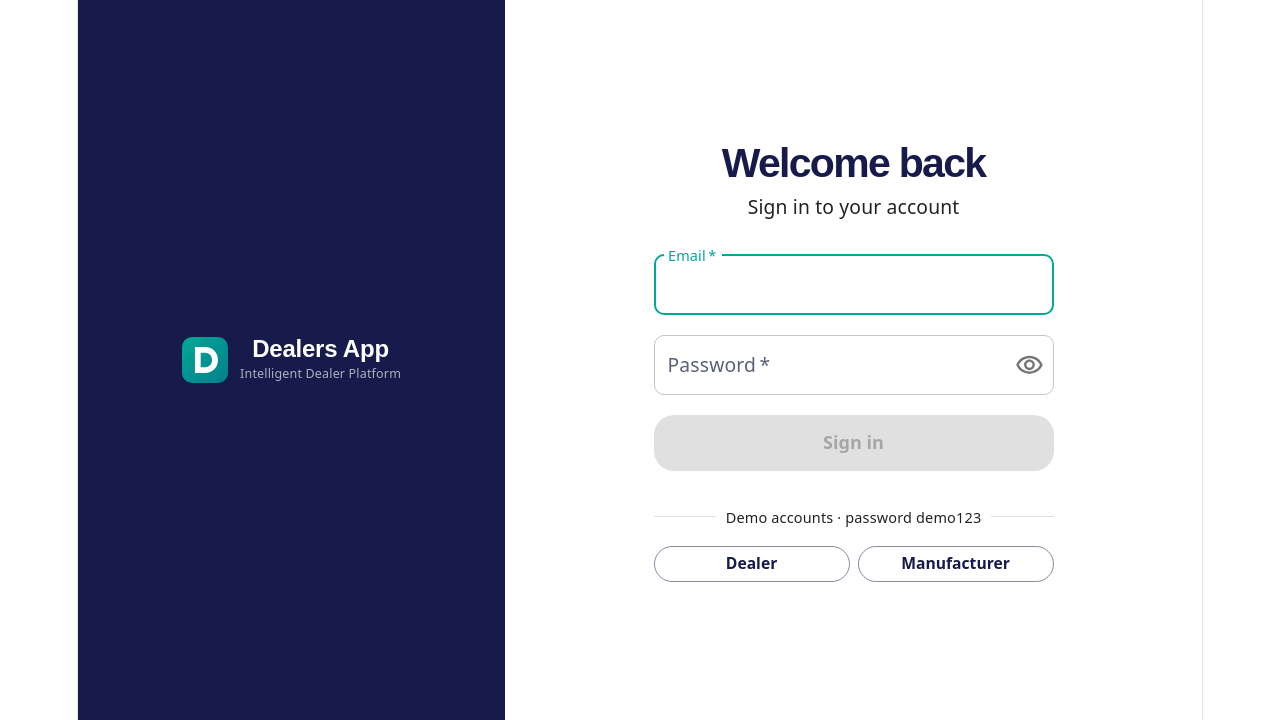
Test case: Login › wrong password shows the error and stays on the page
The image size is (1280, 720).
Type "dealer@demo.com" into the field labelled "Email *" at (854, 284), box [654,254,1054,315]
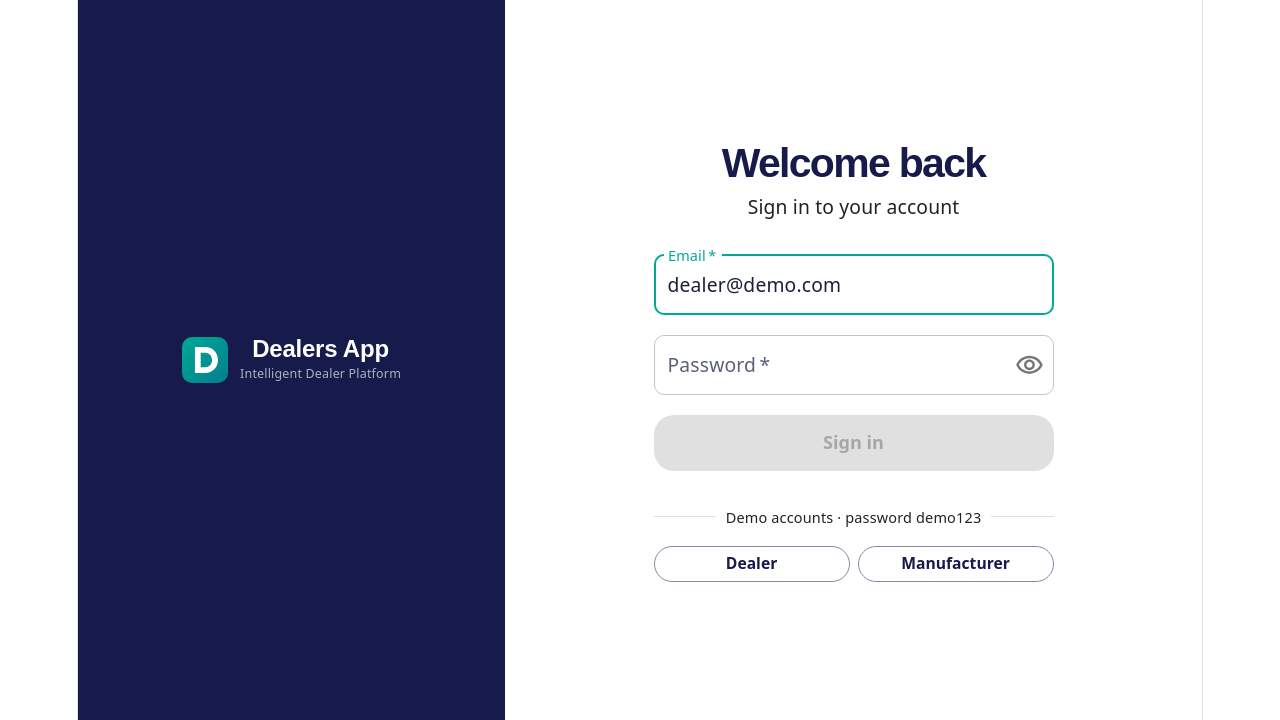
Type "wrong" into the password field labelled "Password *" at (826, 365), box [654,335,999,395]
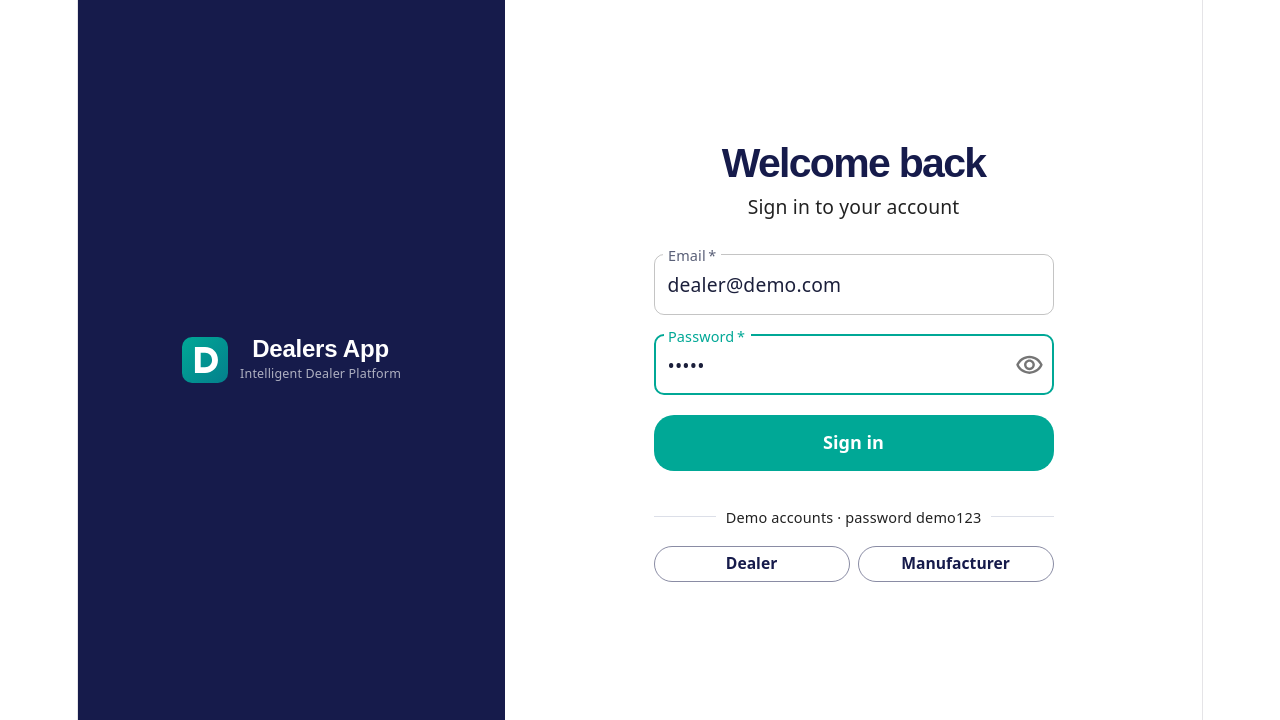
Click the button "Sign in" at (854, 443), box [654,416,1054,471]
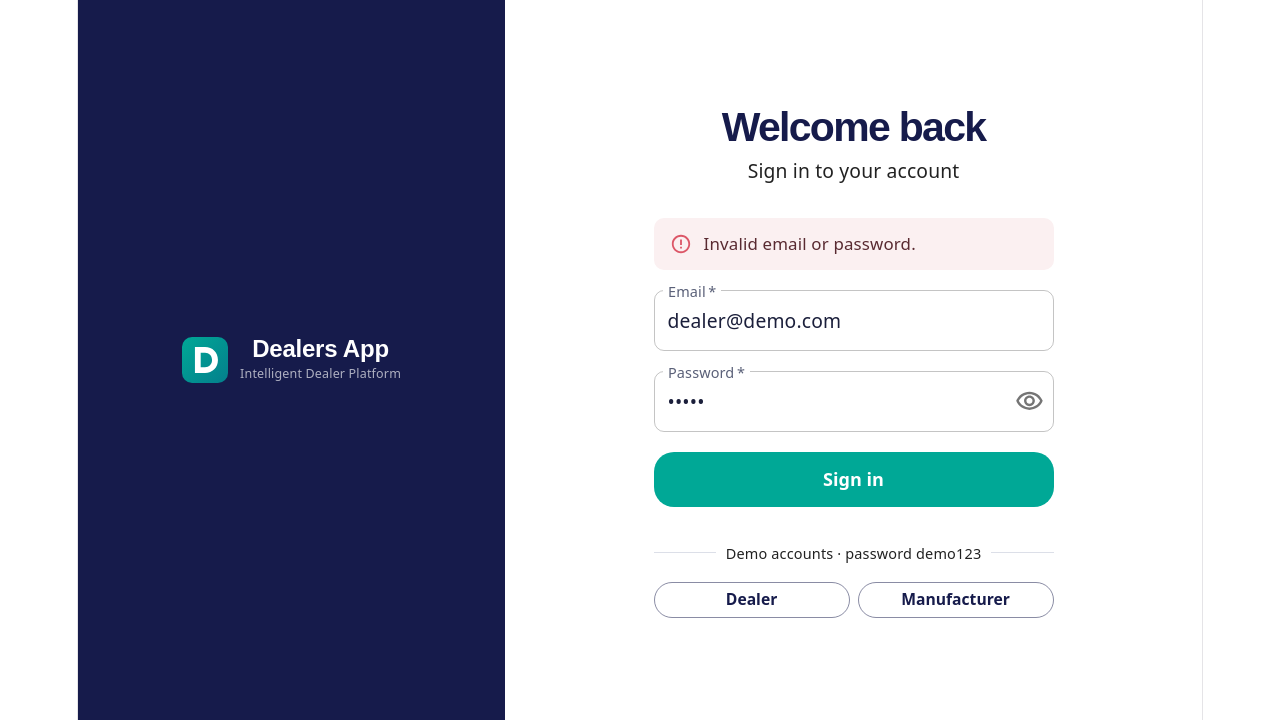
Check: the text "Invalid email or password." is shown, box [704,232,916,255]
